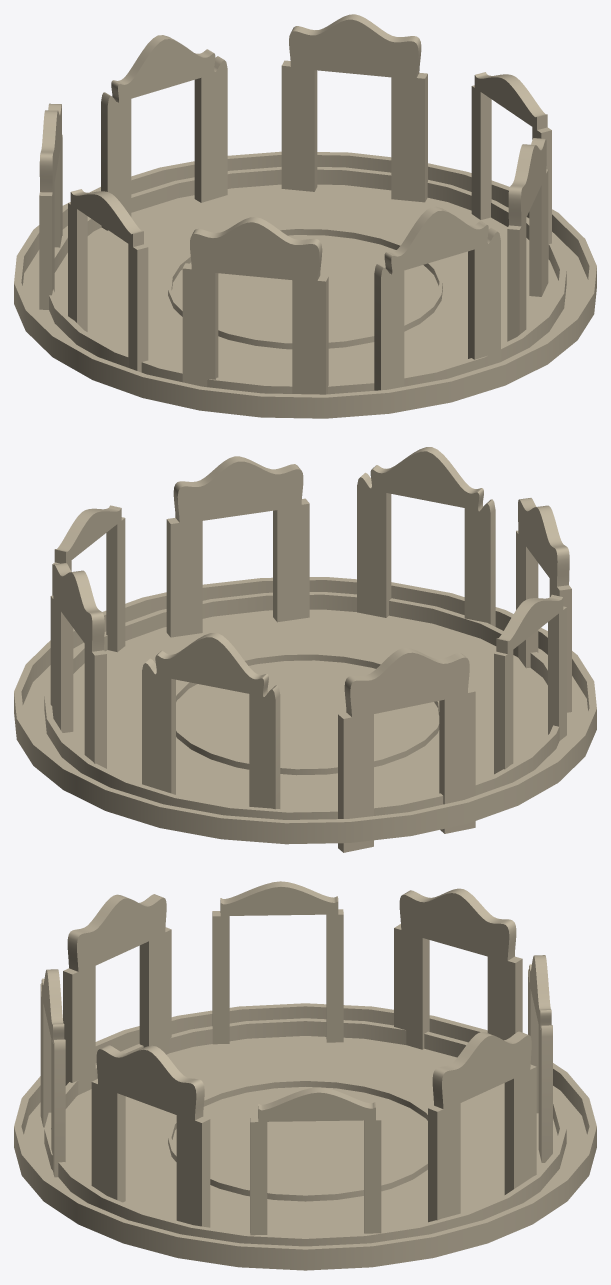
The model's file is сцена_игра.fbx.
3 views of the same model, one above another, from view 1: azimuth 30°, elevation 25°; view 2: azimuth 150°, elevation 25°; view 3: azimuth 270°, elevation 25° (orthographic).
Parts seen in each view (by area): view 1: Circle001, Donut001, Line011, Line008, Donut002, Line007, Line004, Line005, Line010, Line009, Line006, Donut003; view 2: Circle001, Donut001, Line010, Line006, Donut002, Line007, Line004, Line011, Line005, Line008, Line009, Donut003; view 3: Circle001, Donut001, Donut002, Line010, Line008, Line006, Line011, Line005, Line009, Line007, Line004, Donut003.
Part boxes in pixels (left/top/right/bottom): Circle001: left=23, top=184, right=587, bottom=383; Donut001: left=14, top=151, right=596, bottom=418; Line011: left=281, top=14, right=427, bottom=202; Line008: left=182, top=217, right=328, bottom=394; Donut002: left=49, top=167, right=566, bottom=394; Line007: left=374, top=206, right=500, bottom=390; Line004: left=101, top=35, right=227, bottom=230; Line005: left=68, top=189, right=148, bottom=372; Line010: left=507, top=138, right=548, bottom=341; Line009: left=471, top=72, right=551, bottom=258; Line006: left=39, top=103, right=62, bottom=309; Donut003: left=168, top=227, right=442, bottom=349; Circle001: left=23, top=609, right=587, bottom=809; Donut001: left=14, top=577, right=596, bottom=844; Line010: left=166, top=456, right=309, bottom=637; Line006: left=338, top=648, right=475, bottom=852; Donut002: left=44, top=592, right=559, bottom=819; Line007: left=357, top=447, right=495, bottom=626; Line004: left=142, top=633, right=280, bottom=809; Line011: left=50, top=563, right=106, bottom=768; Line005: left=494, top=594, right=566, bottom=774; Line008: left=516, top=498, right=571, bottom=712; Line009: left=52, top=505, right=125, bottom=652; Donut003: left=176, top=653, right=439, bottom=775; Circle001: left=24, top=1036, right=586, bottom=1236; Donut001: left=14, top=1003, right=596, bottom=1270; Donut002: left=44, top=1018, right=566, bottom=1246; Line010: left=91, top=1045, right=210, bottom=1227; Line008: left=63, top=894, right=171, bottom=1094; Line006: left=394, top=888, right=522, bottom=1049; Line011: left=428, top=1031, right=536, bottom=1222; Line005: left=212, top=881, right=343, bottom=1044; Line009: left=250, top=1087, right=381, bottom=1235; Line007: left=40, top=969, right=65, bottom=1177; Line004: left=528, top=955, right=552, bottom=1162; Donut003: left=168, top=1079, right=427, bottom=1201.
Bounding box in the file's own units: 103 × 38.54 × 103.
